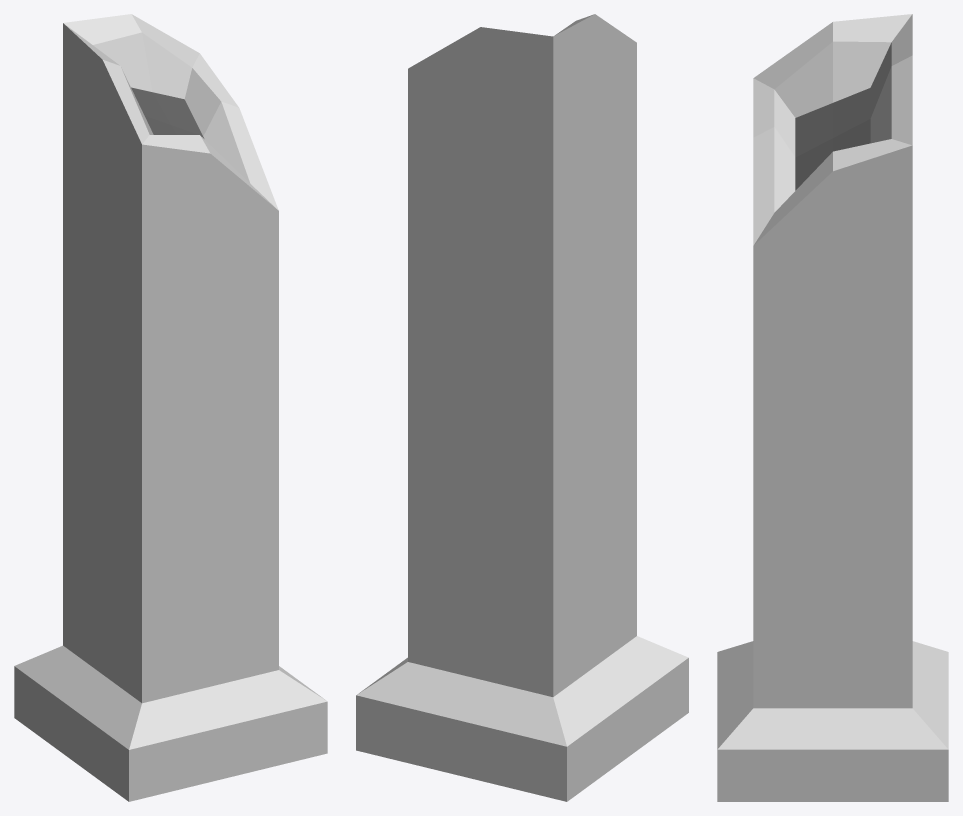
The model's file is square_pillar_broken.glb.
3 renders of one model, left to right at view 1: azimuth 30°, elevation 25°; view 2: azimuth 150°, elevation 25°; view 3: azimuth 270°, elevation 25°, orthographic. The views are drawn at different scales.
Visible parts, largest first — view 1: SquarePillarBroken; view 2: SquarePillarBroken; view 3: SquarePillarBroken.
Part boxes in pixels (x1,y1,x2,y2): SquarePillarBroken: (14, 14, 327, 801); SquarePillarBroken: (356, 14, 688, 801); SquarePillarBroken: (717, 14, 948, 801).
Bounding box in the file's own units: 2 × 6.74 × 2.
Materials: 1 (1 with a texture image).
